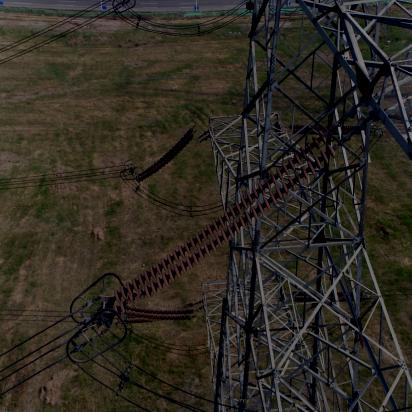insulator: (111, 131, 340, 322), (129, 131, 205, 180), (127, 297, 200, 329)
